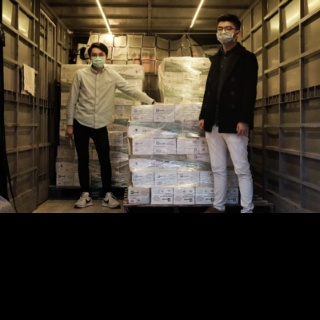with_mask: (216, 25, 238, 46), (89, 51, 106, 68)
